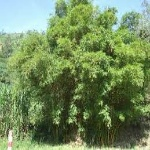Forest: (3, 28, 144, 138)
